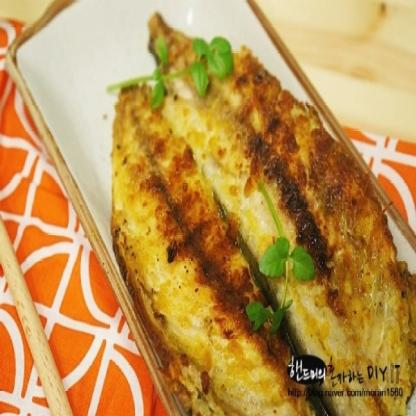Peixe: (93, 13, 416, 416)
